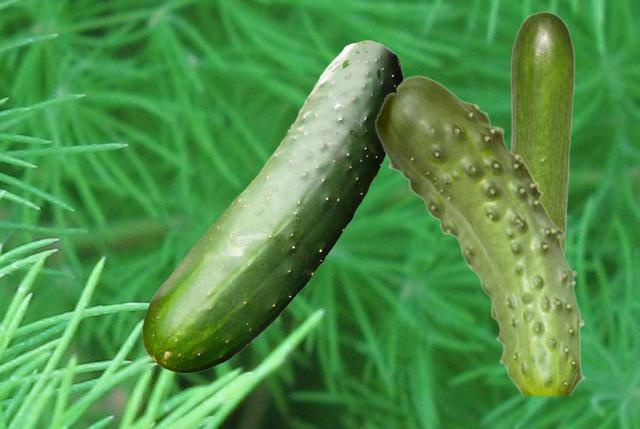cucumber: (142, 40, 402, 372), (374, 75, 585, 394), (510, 11, 574, 253)
